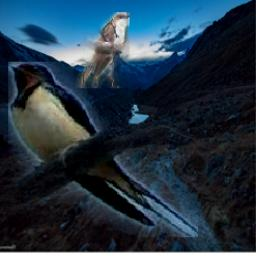Cuckoo: (74, 13, 130, 89)
Swallow: (9, 63, 199, 238)
